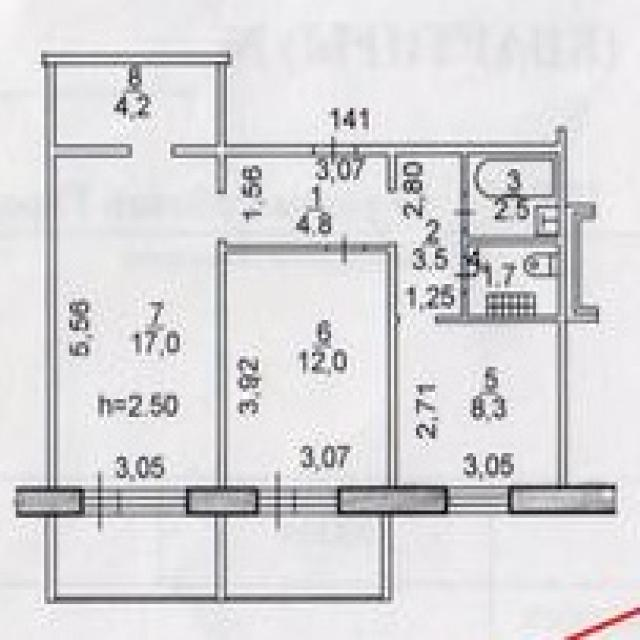Bathrooms: (471, 159, 558, 234), (474, 251, 556, 313)
Corridors: (229, 158, 459, 312), (56, 520, 214, 596), (226, 520, 381, 593), (58, 70, 214, 142)
Doors: (258, 467, 296, 538), (83, 467, 117, 532), (311, 129, 361, 169), (325, 230, 365, 270), (448, 195, 479, 230), (452, 258, 482, 291), (133, 143, 173, 158), (214, 191, 227, 237), (399, 315, 434, 325)
LBwalls: (338, 485, 446, 518), (508, 485, 620, 516), (187, 485, 258, 519), (14, 485, 85, 518)
Offices: (58, 160, 213, 484), (229, 257, 386, 484), (400, 325, 556, 484)
Walls: (38, 49, 313, 485), (359, 125, 601, 485), (42, 517, 396, 605), (214, 236, 323, 486), (367, 240, 397, 486)
Windows: (117, 485, 188, 516), (447, 484, 507, 515), (296, 486, 337, 517)
